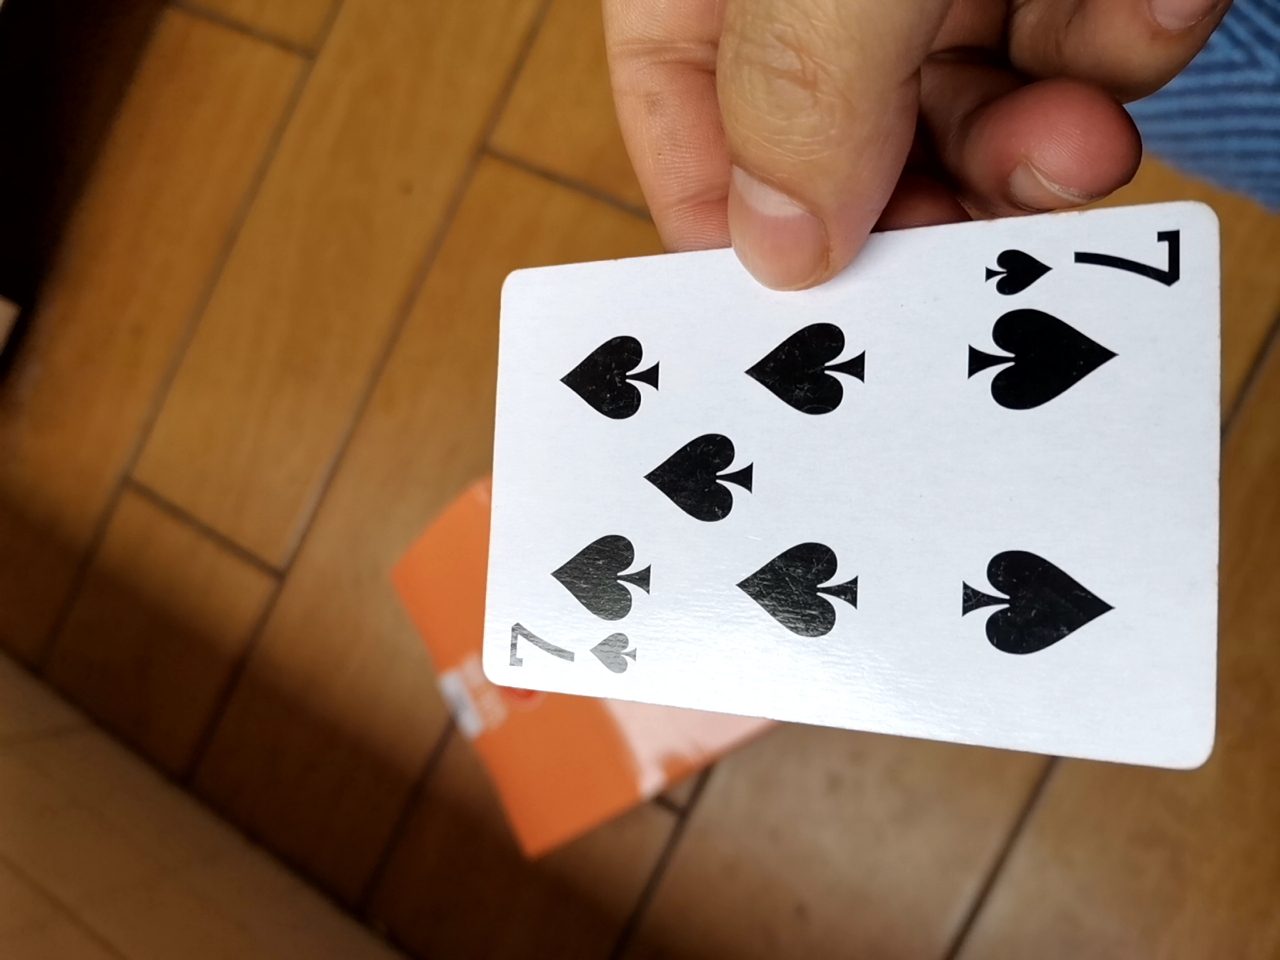ht 7: (472, 220, 1222, 773)
